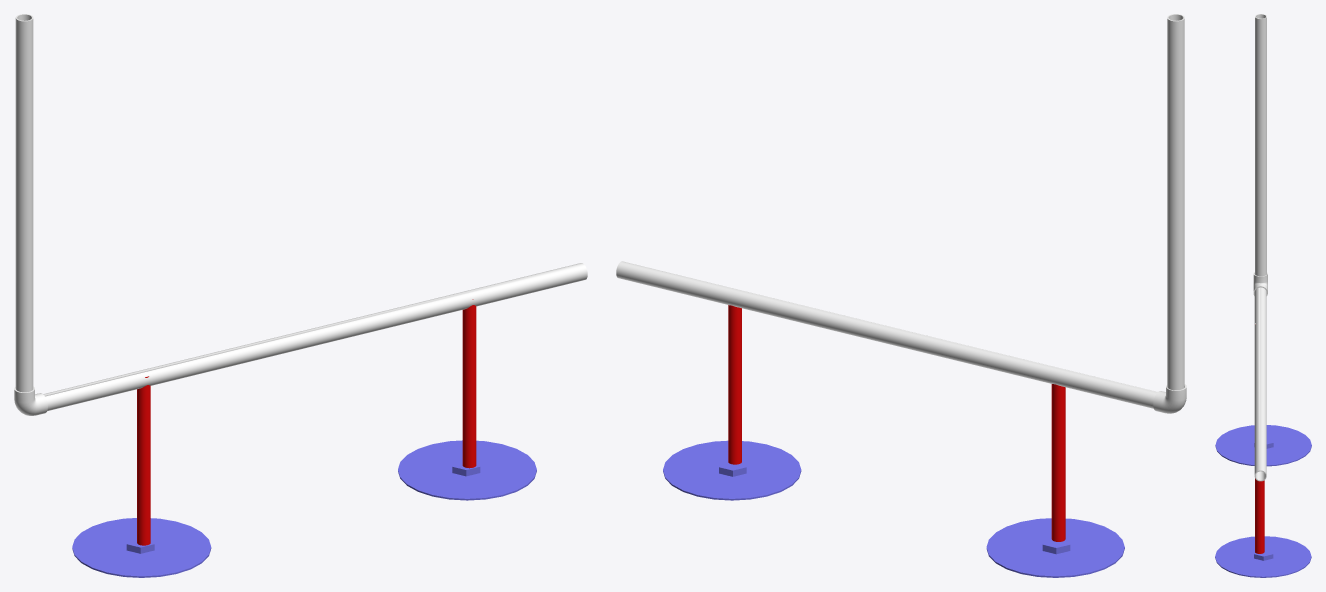
Rendered from l_Lane.dae.
3 renders of one model, left to right at view 1: azimuth 30°, elevation 25°; view 2: azimuth 150°, elevation 25°; view 3: azimuth 270°, elevation 25°, orthographic. The views are drawn at different scales.
Parts seen in each view (by area): view 1: group_0_003, group_0, SketchUp_001, SketchUp_009, SketchUp, SketchUp_017, group_0_001; view 2: group_0_003, group_0, SketchUp_001, SketchUp_009, SketchUp_017, SketchUp, group_0_001; view 3: group_0, SketchUp_001, SketchUp_009, group_0_003, SketchUp, group_0_001, SketchUp_010.
Boxes of the visible parts, x1,y1,x2,y2 form: group_0_003: (43, 263, 587, 410); group_0: (15, 14, 33, 392); SketchUp_001: (398, 440, 536, 500); SketchUp_009: (72, 518, 211, 577); SketchUp: (462, 299, 476, 468); SketchUp_017: (137, 376, 150, 545); group_0_001: (14, 386, 47, 415); group_0_003: (616, 261, 1157, 408); group_0: (1167, 14, 1184, 390); SketchUp_001: (663, 440, 801, 500); SketchUp_009: (986, 518, 1124, 577); SketchUp_017: (1051, 384, 1065, 541); SketchUp: (728, 305, 741, 464); group_0_001: (1153, 384, 1186, 413); group_0: (1254, 14, 1266, 276); SketchUp_001: (1215, 536, 1311, 577); SketchUp_009: (1215, 425, 1311, 466); group_0_003: (1254, 287, 1266, 481); SketchUp: (1255, 478, 1264, 553); group_0_001: (1253, 272, 1267, 295); SketchUp_010: (1254, 547, 1273, 560).
Bounding box in the file's own units: 1.89 × 0.4014 × 1.79.
